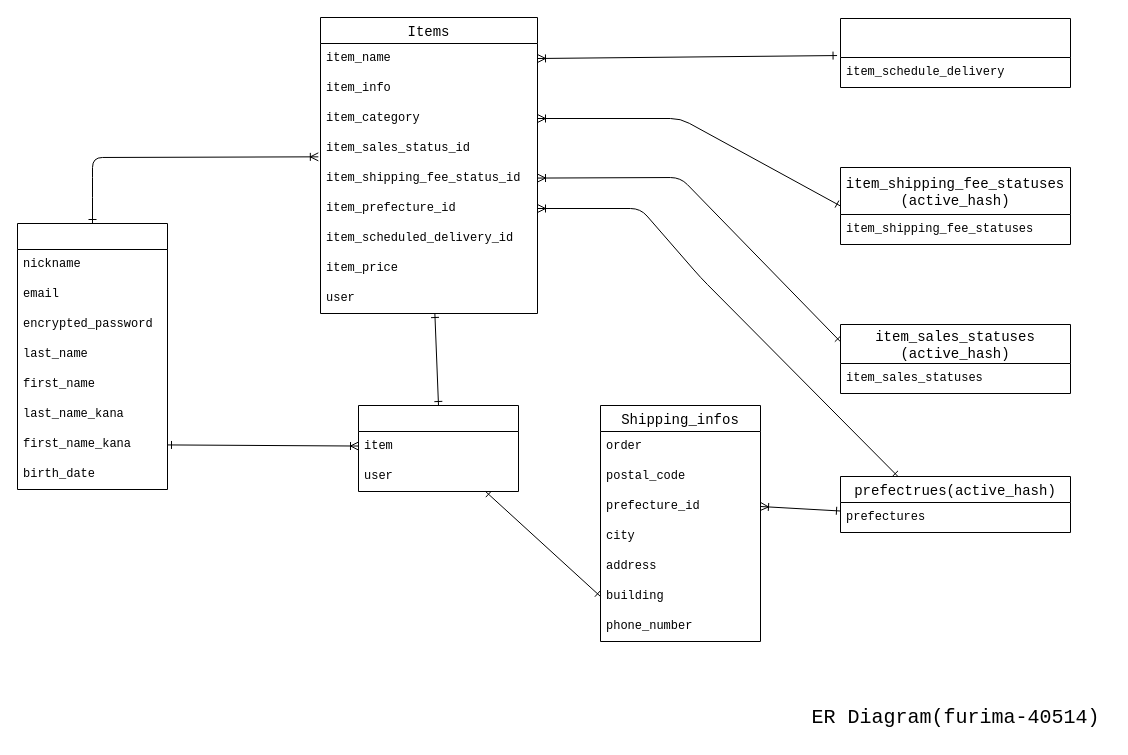
The diagram is 1128 pixels wide and 755 high, and some of its shapes have lost their labels. The box of each missing label's shape, as (x1, y1, x2, y2) in pixels:
item_schedule_delivery (active_hash): (840, 18, 1070, 88)
Orders: (358, 404, 518, 492)
Users: (16, 222, 168, 490)
